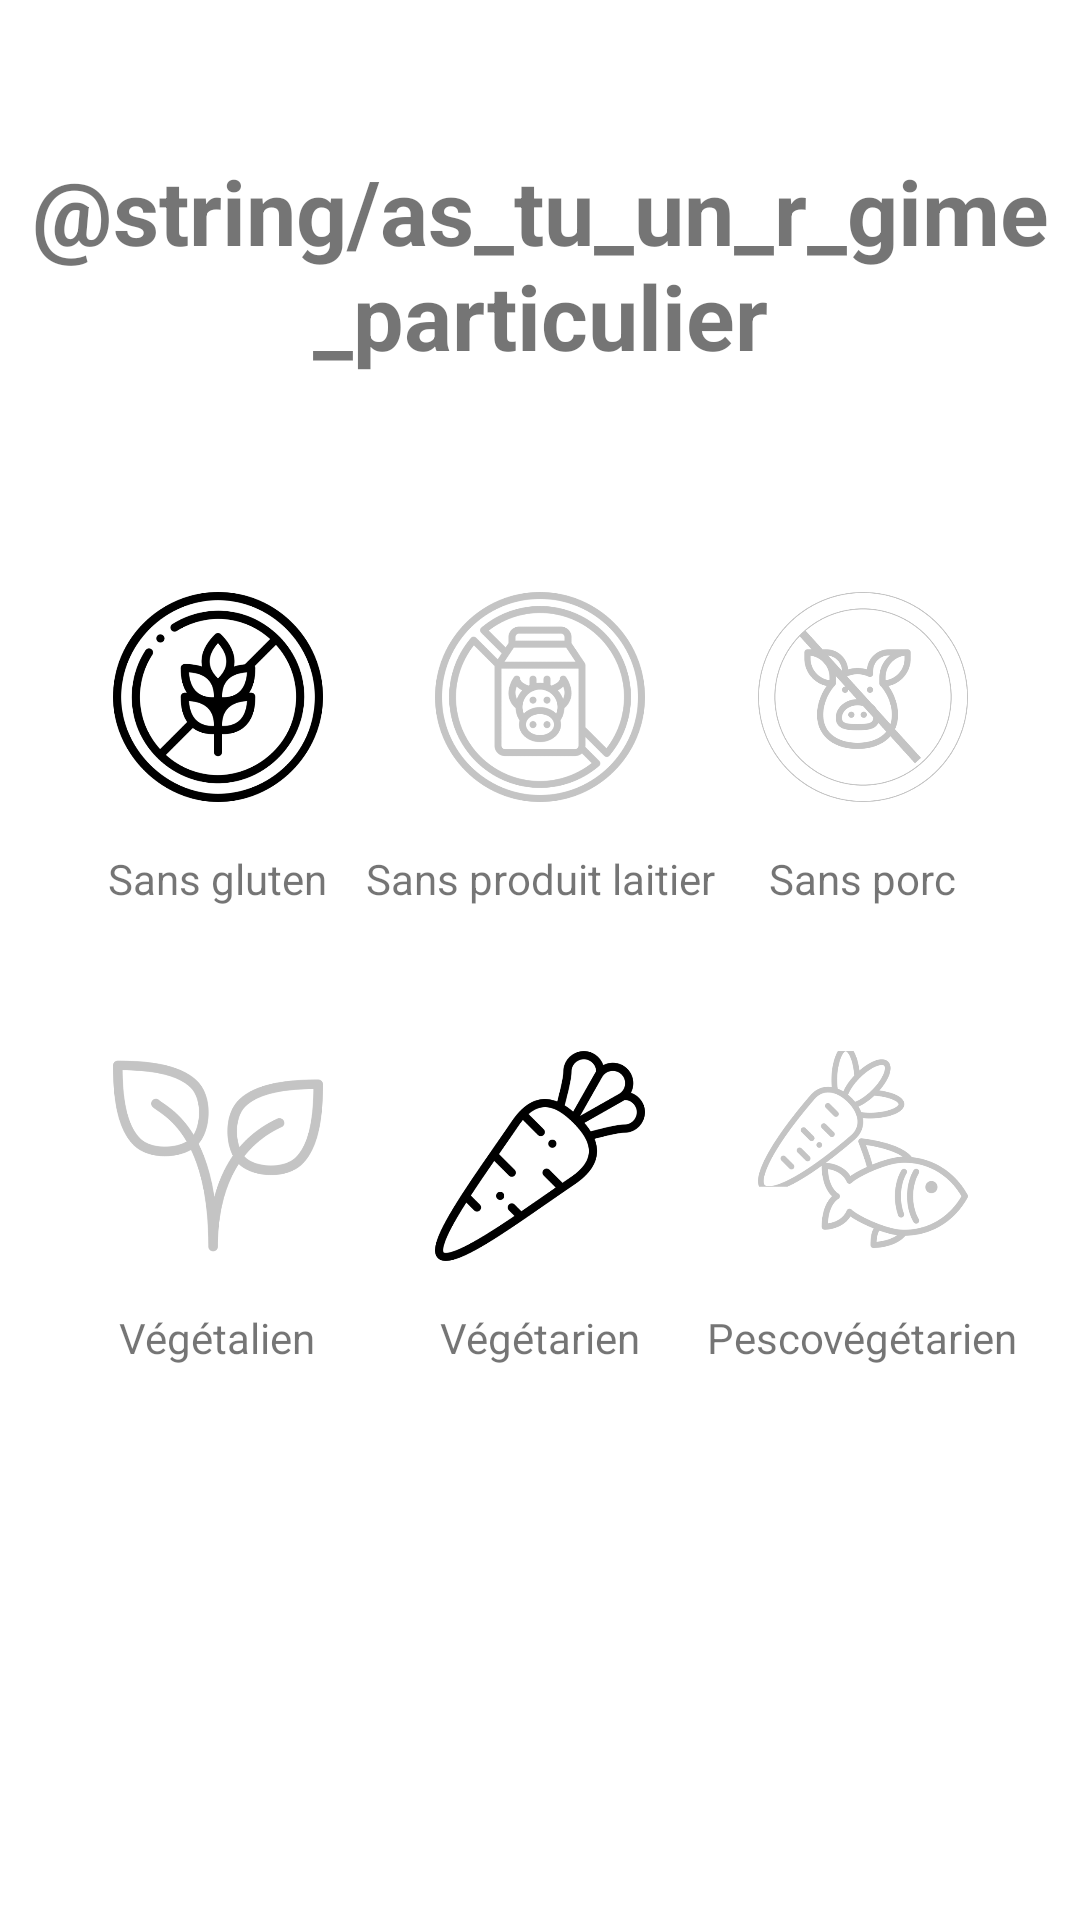

Where icons sit on this 1080w x 1920h app screen, as (x1, y1, x2, y2):
carrot: (435, 1051, 645, 1261)
plante: (113, 1061, 323, 1251)
